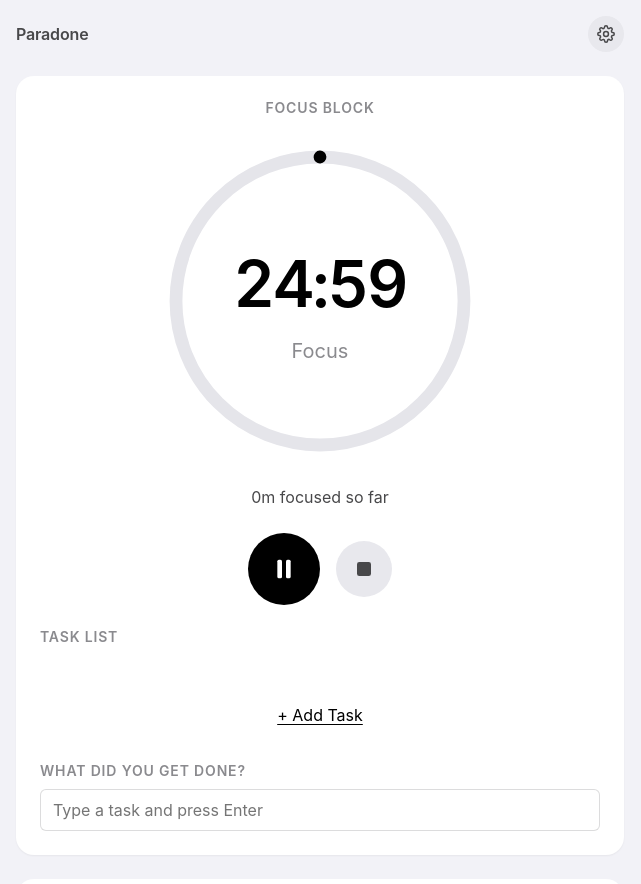
settings view › is reachable mid-session, replacing the timer until Back
Click the button without text in the row of "Paradone". click: (606, 34)
box: [588,16,624,52]
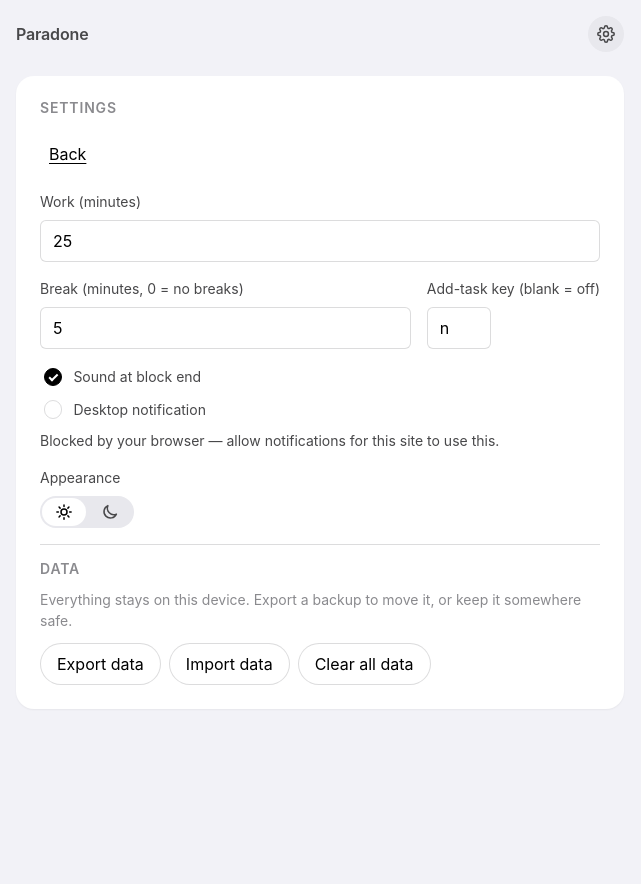
Result: the heading "Settings" is shown at [40,99,117,116]
Click the button "Back". click: (68, 154)
box: [40,133,95,175]
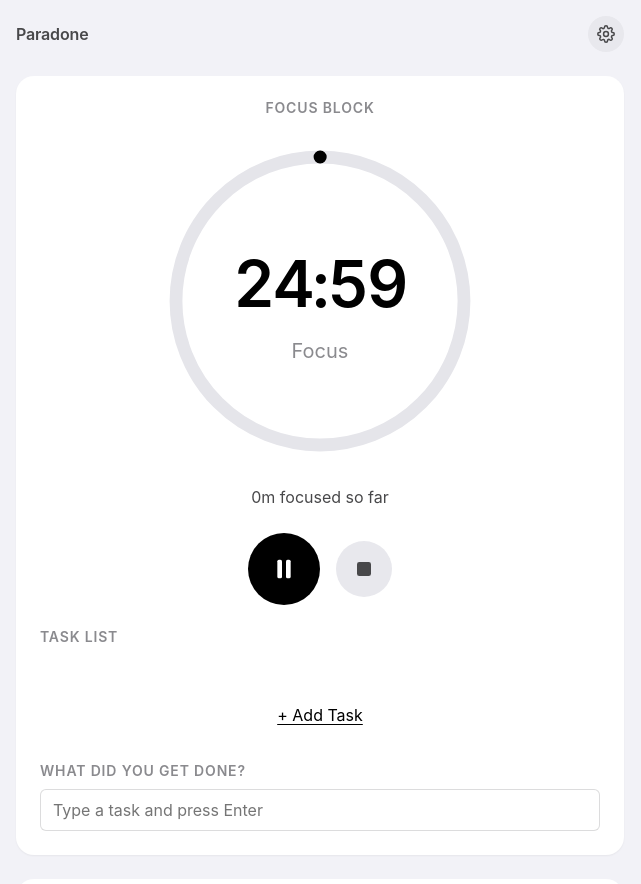
Result: the heading "Focus block" is shown at [265,100,375,117]
